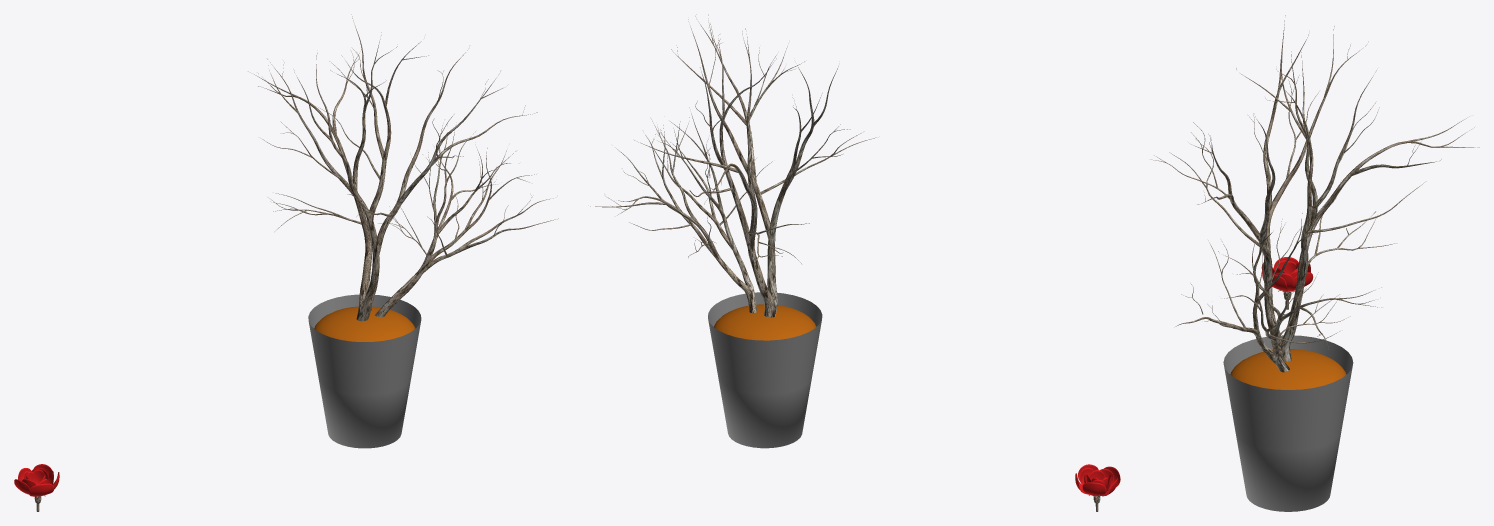
The model's file is plant_pot.glb.
The picture shows the model from 3 angles, left to right: view 1: azimuth 30°, elevation 25°; view 2: azimuth 150°, elevation 25°; view 3: azimuth 270°, elevation 25°; orthographic projection. The views are drawn at different scales.
Visible parts, largest first — view 1: tree, Cylinder, Sphere, Icosphere.001; view 2: tree, Cylinder, Sphere, Icosphere.001; view 3: Cylinder, tree, Sphere, Icosphere.001.
Boxes of the visible parts, left/top/right/bottom form: tree: left=248, top=14, right=558, bottom=321; Cylinder: left=308, top=294, right=421, bottom=448; Sphere: left=314, top=306, right=415, bottom=341; Icosphere.001: left=14, top=464, right=59, bottom=511; tree: left=590, top=14, right=876, bottom=317; Cylinder: left=708, top=292, right=822, bottom=448; Sphere: left=714, top=304, right=816, bottom=340; Icosphere.001: left=1075, top=464, right=1120, bottom=511; Cylinder: left=1223, top=335, right=1353, bottom=511; tree: left=1150, top=15, right=1479, bottom=372; Sphere: left=1230, top=349, right=1346, bottom=389; Icosphere.001: left=1261, top=257, right=1313, bottom=309.
Size of what is drawn, in the model's own units: 9.17 by 6.9 by 4.56.
Materials: 5 (1 with a texture image).
